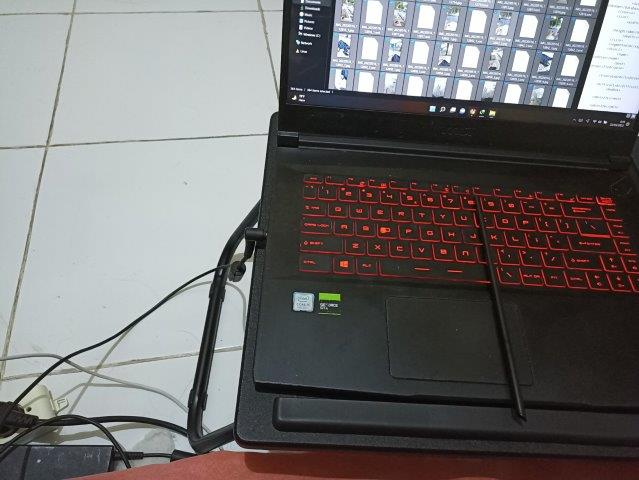sedotan: (475, 198, 526, 420)
